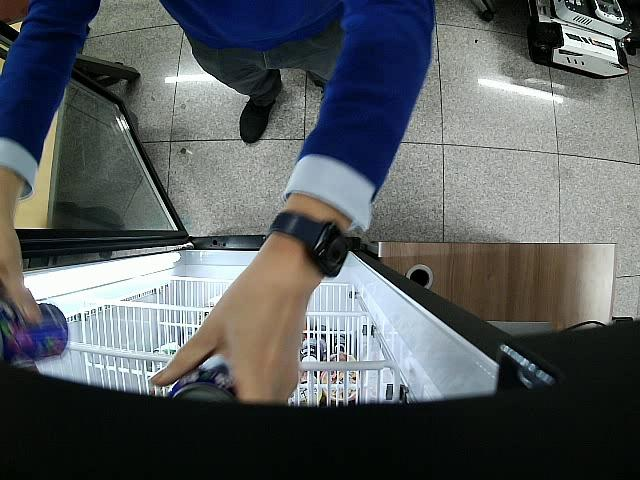00_hand: (149, 251, 306, 405), (2, 197, 46, 327)
14_welchsGrape: (1, 303, 68, 366), (169, 361, 240, 403)
